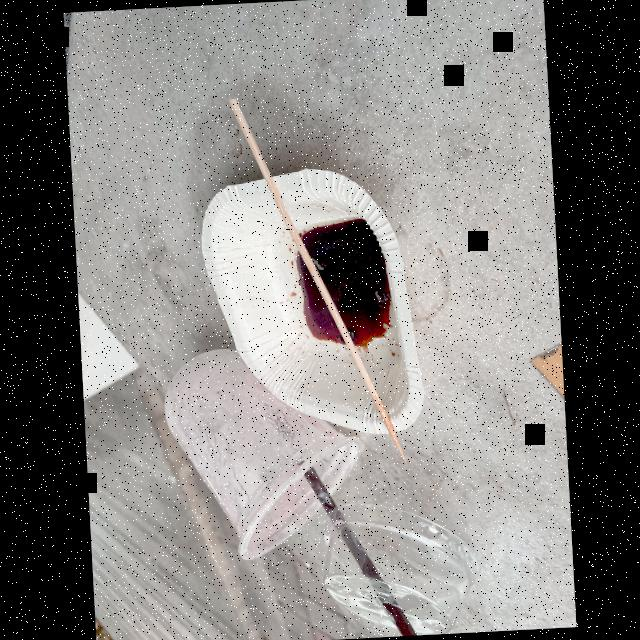cardboard_bowl: (197, 172, 424, 452)
plastic_cup: (152, 338, 372, 568)
plastic_cup_lid: (314, 489, 490, 638)
stick: (213, 90, 420, 475)
straw: (287, 445, 425, 636)
